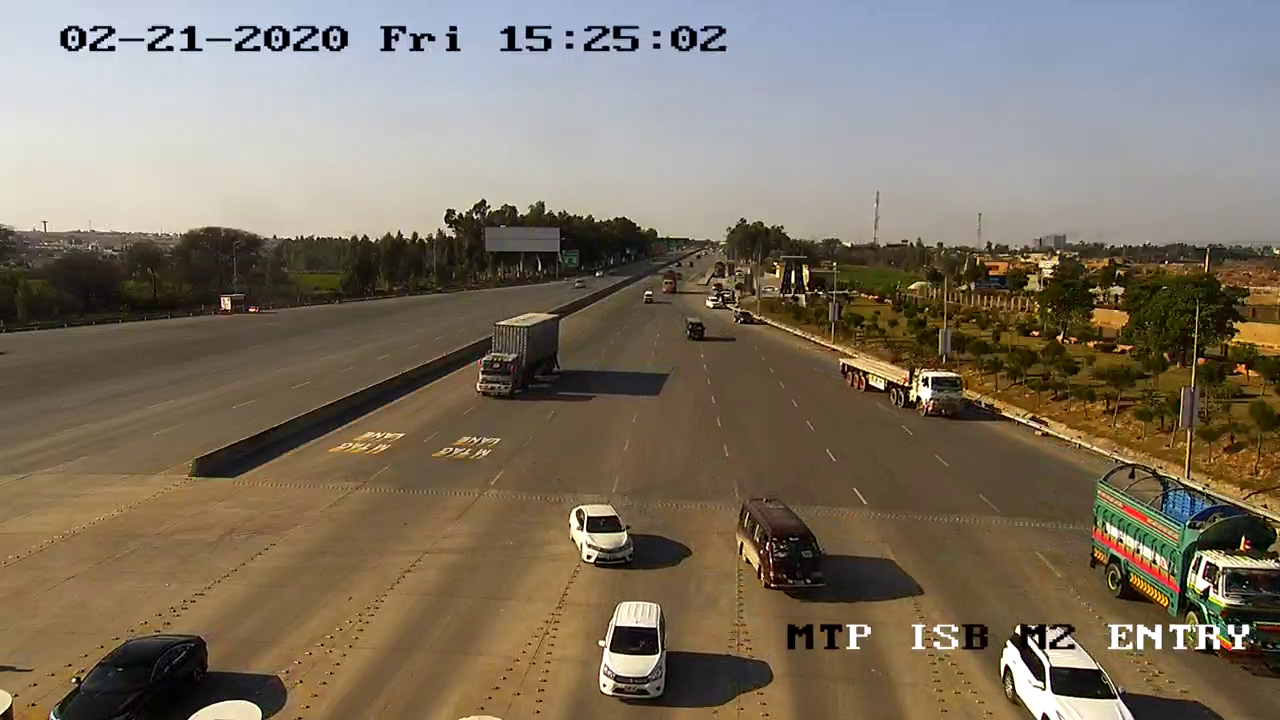f1: (595, 598, 680, 707), (567, 496, 646, 573)
f2: (733, 494, 833, 601)
f5: (1089, 465, 1280, 667)
f6: (837, 346, 975, 429), (468, 309, 573, 409)
